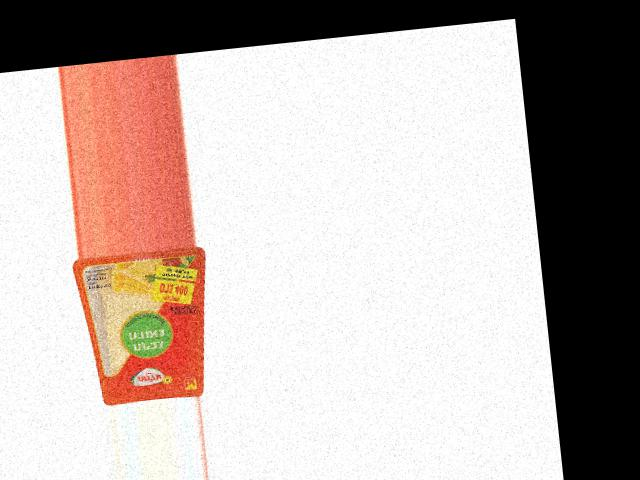cheese: (72, 245, 220, 407)
